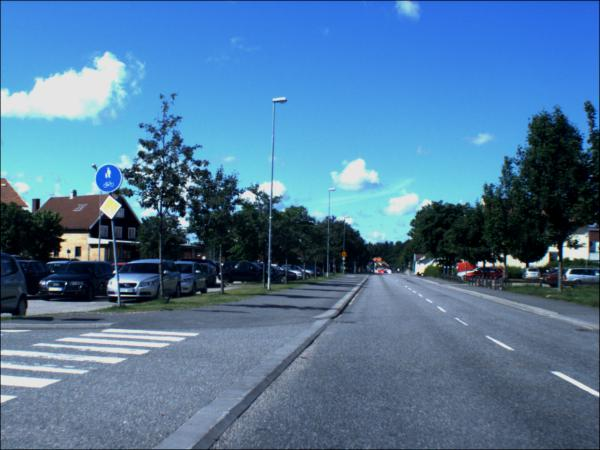PRIORITY_ROAD: (99, 195, 123, 221), (343, 258, 347, 262)
WARNING: (341, 251, 347, 258)
